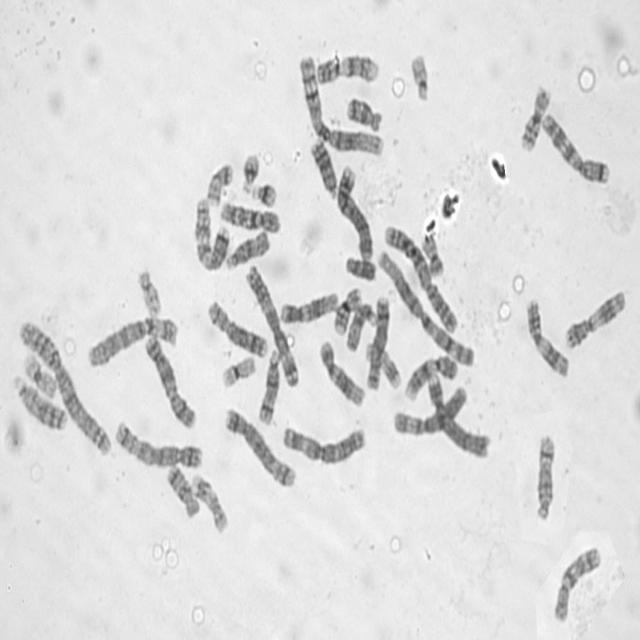A1: (378, 225, 474, 373), (296, 50, 385, 159)
A2: (380, 221, 470, 375), (17, 315, 113, 459)
A3: (244, 260, 302, 389), (279, 420, 366, 466)
B4: (425, 370, 492, 460), (336, 161, 374, 262)
B5: (222, 404, 297, 489), (112, 417, 204, 470)
C10: (549, 541, 604, 624), (218, 198, 282, 235)
C11: (560, 283, 628, 352), (524, 294, 570, 380)
C12: (316, 336, 366, 410), (277, 287, 340, 326)
C6: (84, 311, 180, 371), (390, 382, 468, 438)
C7: (539, 109, 611, 186), (192, 194, 230, 272)
C8: (206, 296, 268, 359), (364, 292, 391, 392)
C9: (402, 352, 459, 404), (313, 51, 381, 87)
D13: (10, 371, 69, 434), (308, 134, 338, 201)
D14: (255, 345, 281, 427), (534, 429, 556, 522)
D15: (222, 226, 272, 272), (344, 298, 376, 353)
E16: (518, 82, 551, 154), (331, 284, 363, 336)
E17: (189, 470, 229, 536), (363, 339, 402, 390)
E18: (164, 461, 200, 518), (343, 93, 384, 134)
F19: (20, 349, 59, 399), (219, 351, 257, 390)
F20: (204, 158, 235, 208), (420, 231, 444, 277)
G21: (239, 149, 261, 196), (249, 179, 278, 208)
G22: (135, 265, 163, 318), (408, 50, 431, 104)
X: (143, 332, 197, 430)
Y: (343, 252, 378, 282)
